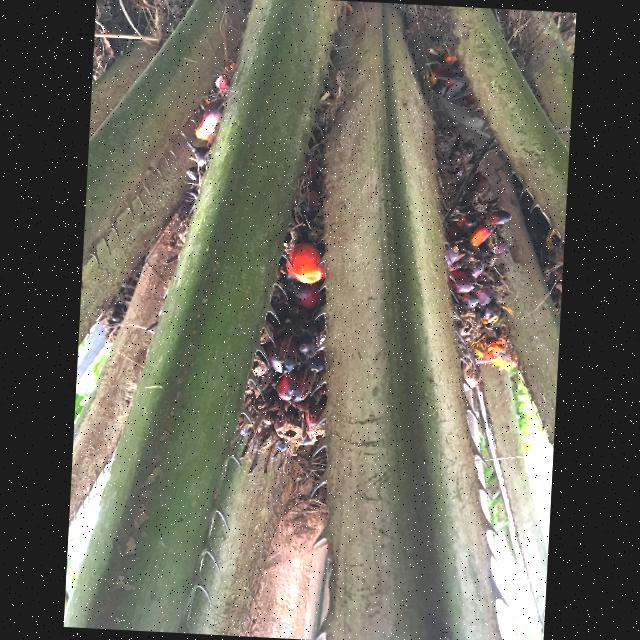Unripe: (243, 234, 333, 448), (444, 182, 511, 362)
